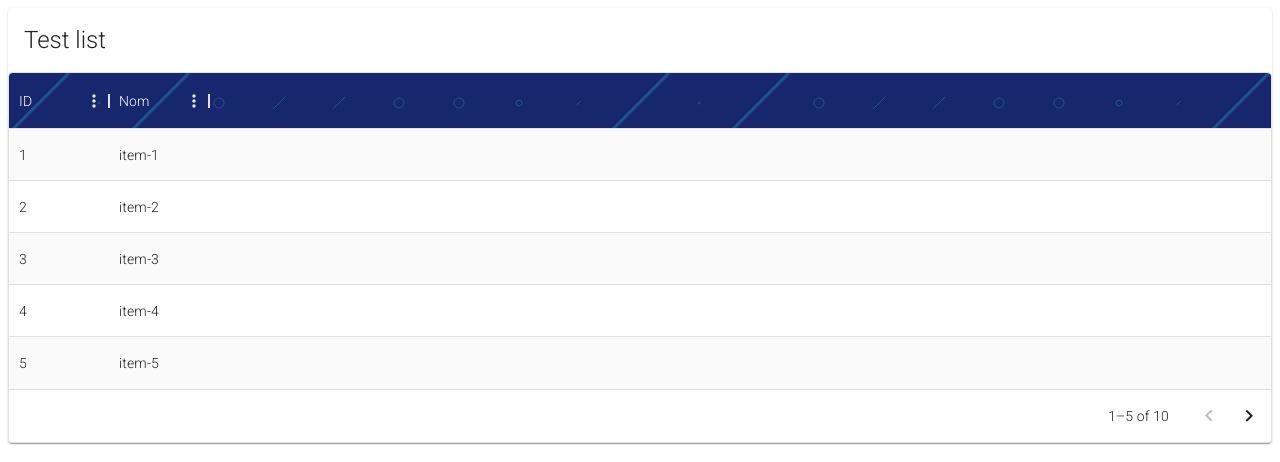
Test: DataTable: fetch data, render list and paginate
Expected: the text "item-5" is shown, [119,352,159,372]
Expected: the table shows "item-1", [119,146,159,162]
Click the button titled "Go to next page" at {"x": 1249, "y": 416}, box [1229,396,1269,436]
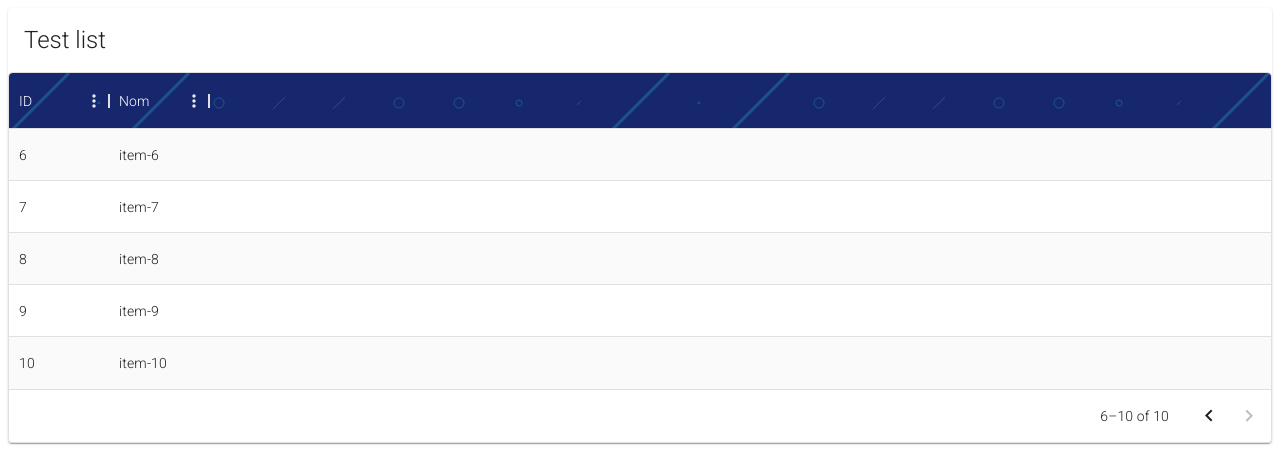
Result: the text "item-6" is shown at [119,144,159,164]
Result: the table no longer shows "item-5"
Result: the table shows "item-6" at [119,146,159,162]
